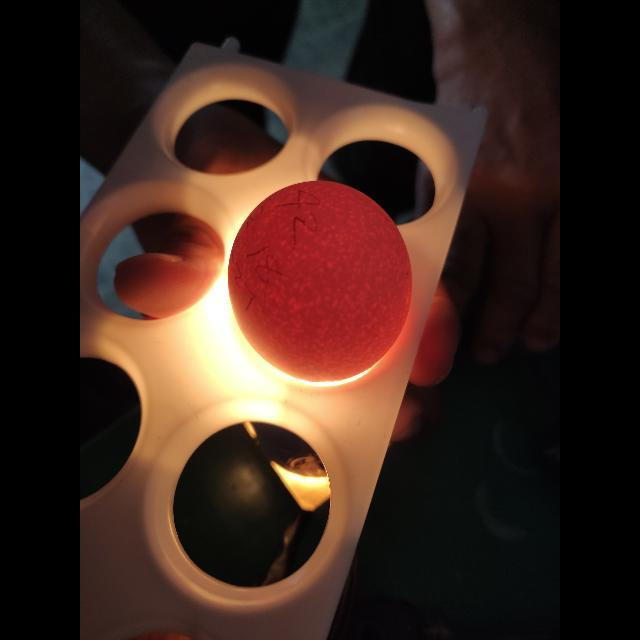Infertile: (229, 180, 407, 382)
